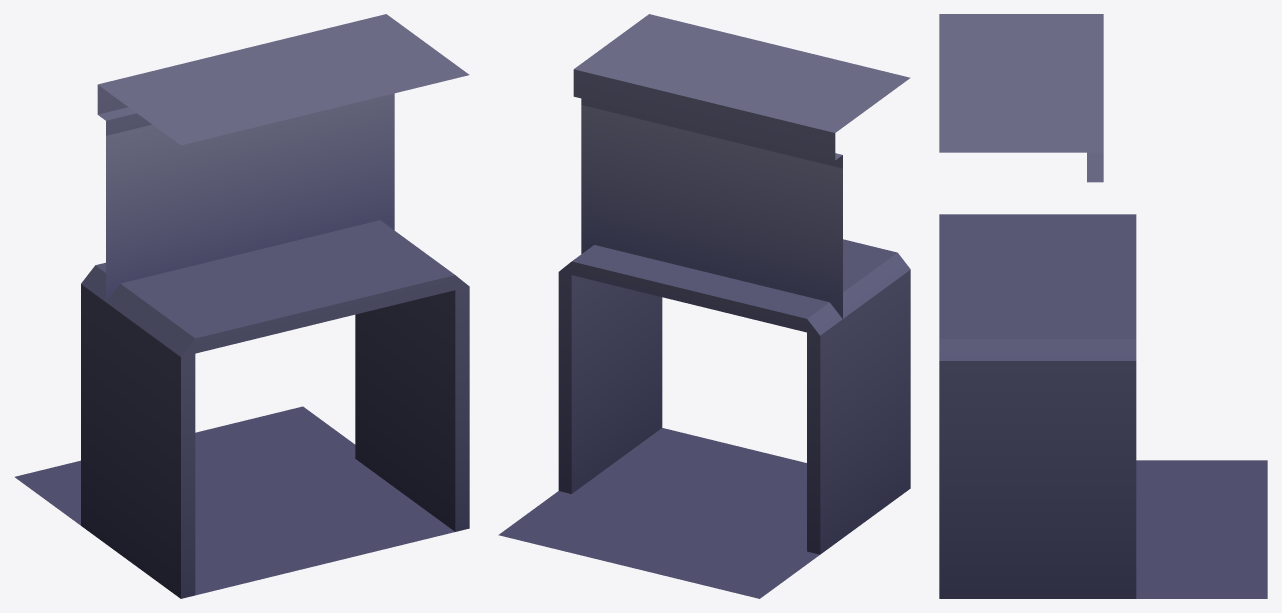
Rendered from structure-doorway-wide.glb.
The picture shows the model from 3 angles, left to right: view 1: azimuth 30°, elevation 25°; view 2: azimuth 150°, elevation 25°; view 3: azimuth 270°, elevation 25°; orthographic projection. The views are drawn at different scales.
Visible parts, largest first — view 1: structure-doorway-wide; view 2: structure-doorway-wide; view 3: structure-doorway-wide.
Part boxes in pixels (bbox=[...]): structure-doorway-wide: bbox=[15, 14, 469, 598]; structure-doorway-wide: bbox=[498, 14, 910, 598]; structure-doorway-wide: bbox=[939, 14, 1267, 598].
Bounding box in the file's own units: 2 × 3 × 2.
